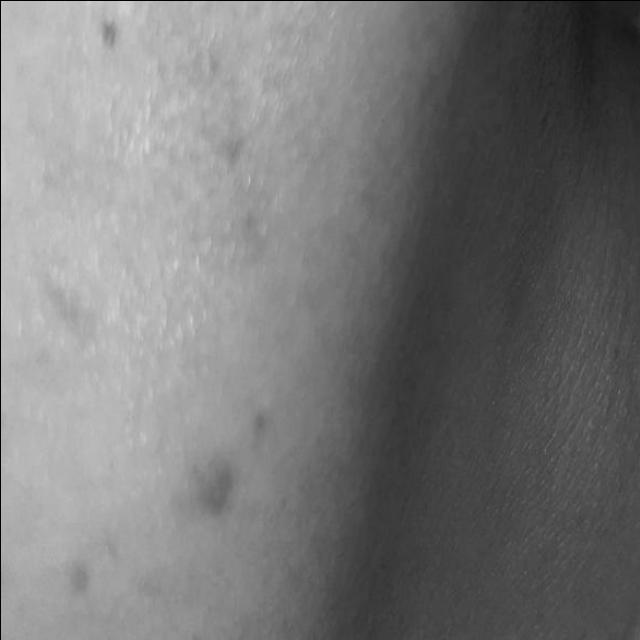papule: (180, 368, 299, 534)
